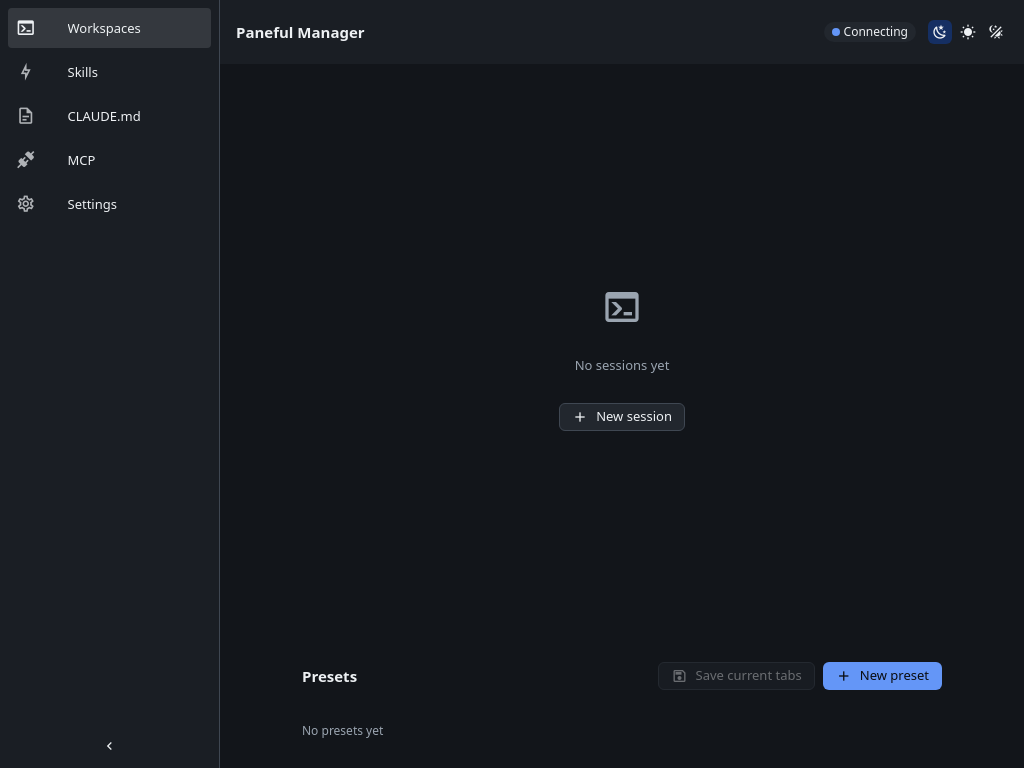
Test: AppShell › toggles the rail and keeps it in the store
Click the button named "Collapse sidebar": (110, 746) 96,732 -> 124,760
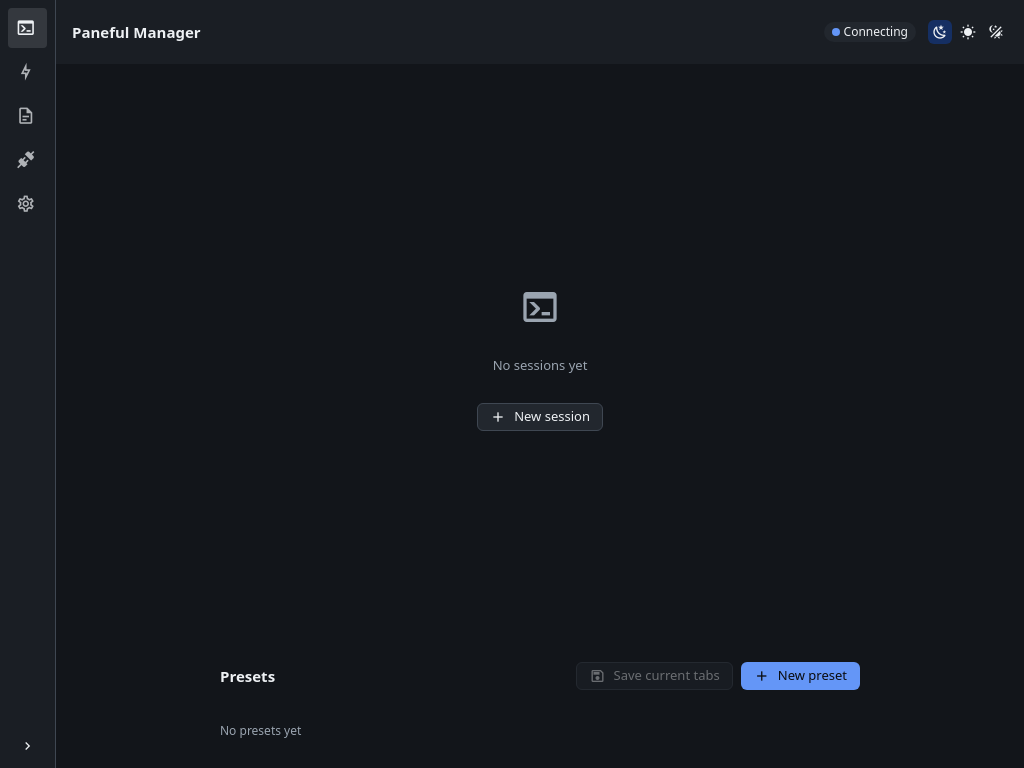
Expected: the navigation bar is shown, 0,0 -> 56,767
